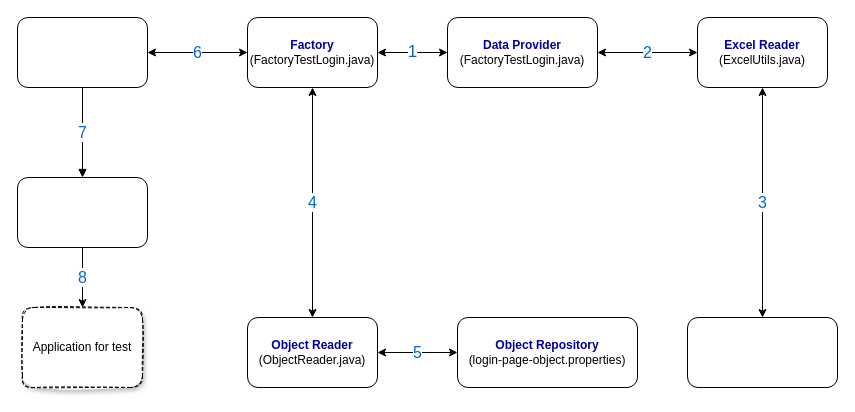
Image size: 855x412. Some labels were removed from this diagram. The centre of each missing label's shape, as x and y in pixels:
Keyword + Data Sheet (Login_User - Integration.xlsx): point 762,352
Operation (UIOperation.java): point 82,212
Testcase Executor (TestcaseExecutor.java): point 82,52
